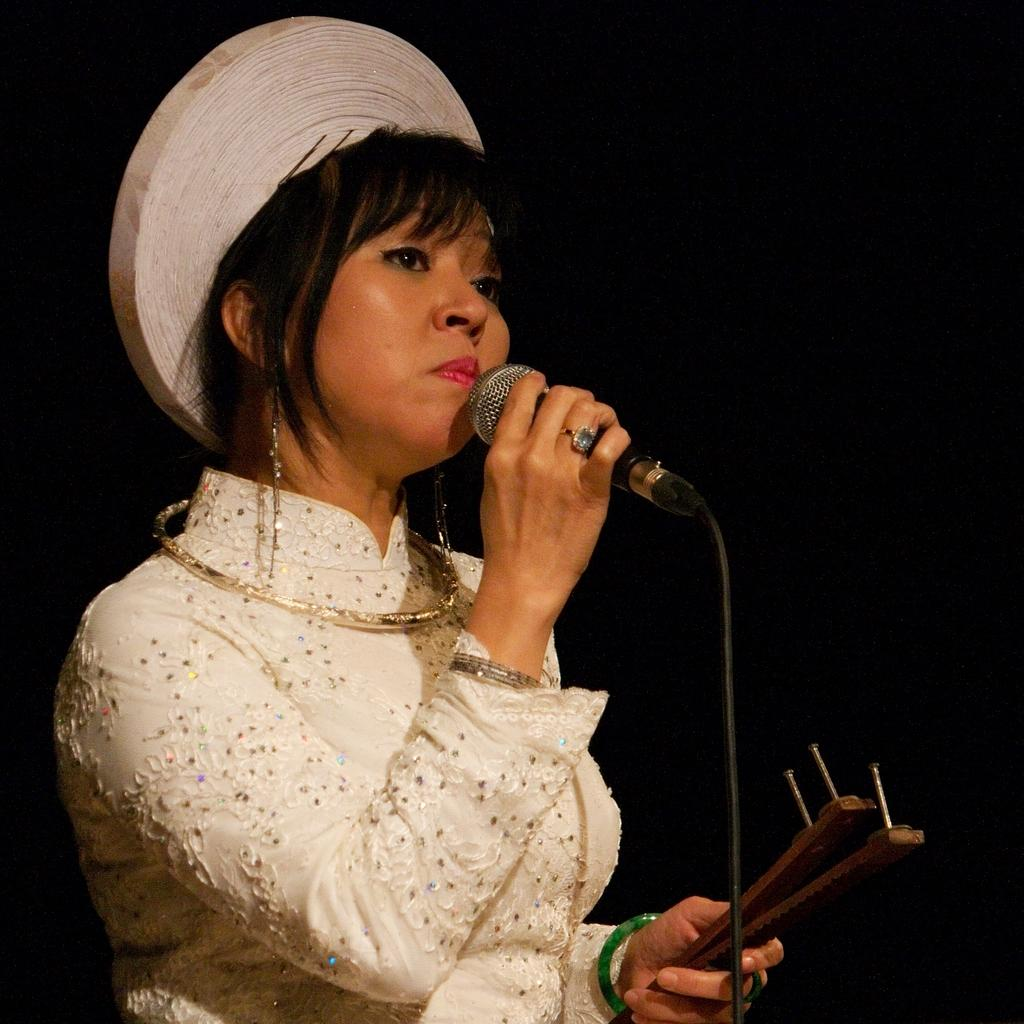Hat: (106, 16, 482, 456)
